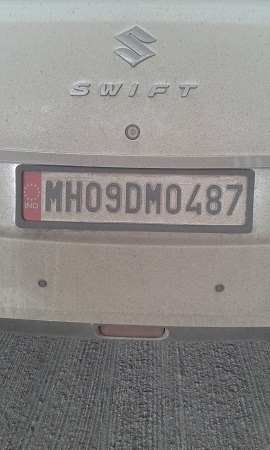licenseplate: (15, 165, 257, 234)
